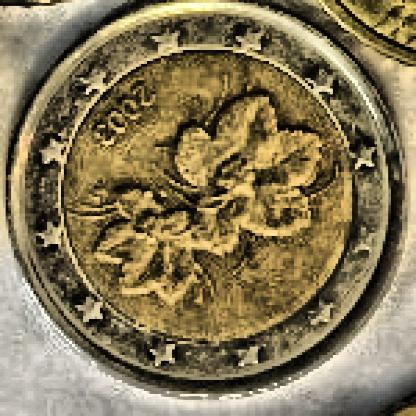coin: (6, 1, 411, 398)
